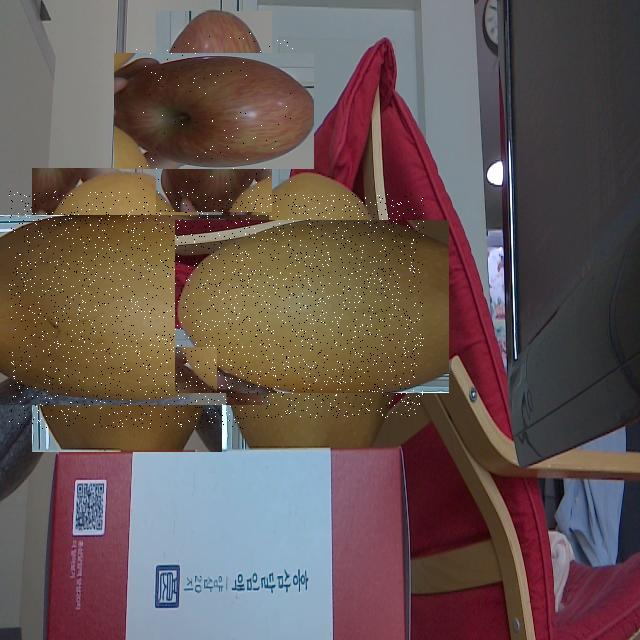apple: (135, 32, 293, 191)
pear: (9, 191, 245, 429), (200, 194, 424, 418)
